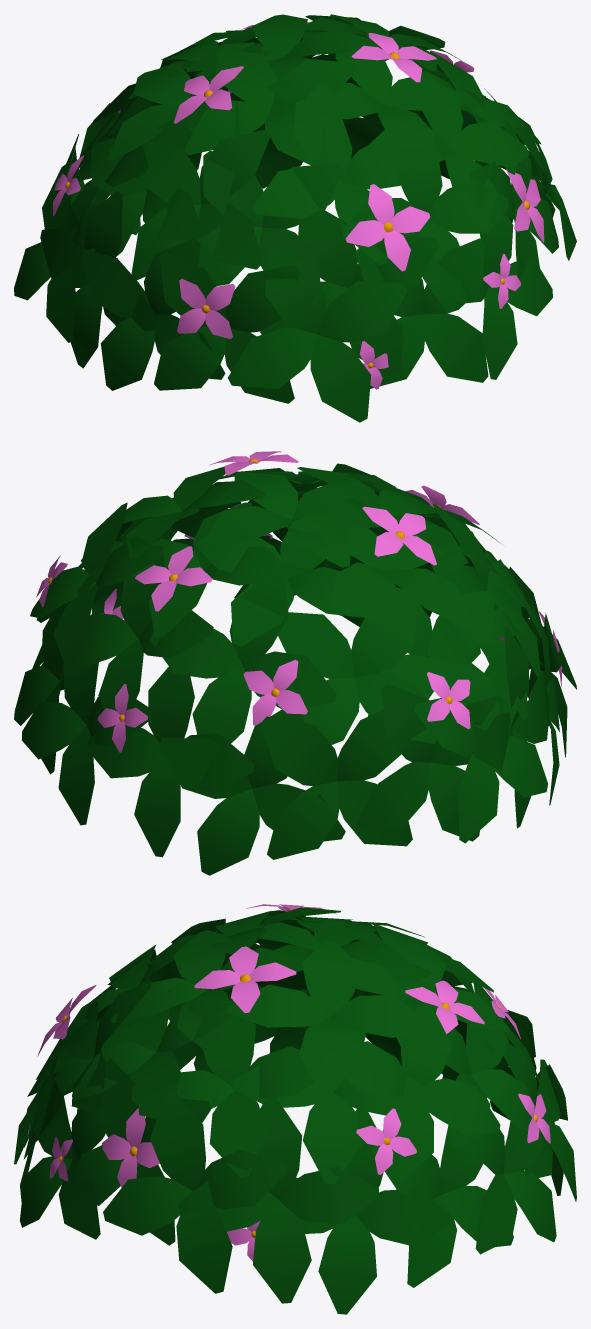
The model's file is bush.fbx.
3 views of the same model, one above another, from view 1: azimuth 30°, elevation 25°; view 2: azimuth 150°, elevation 25°; view 3: azimuth 270°, elevation 25° (orthographic). The views are drawn at different scales.
Visible parts, largest first — view 1: bush; view 2: bush; view 3: bush.
Boxes of the visible parts, box(x1,y1,x2,y2) form: bush: box(14, 14, 576, 422); bush: box(14, 451, 576, 875); bush: box(14, 904, 576, 1314).
Size of the model in its own units: 2.25 by 1.24 by 2.21.
